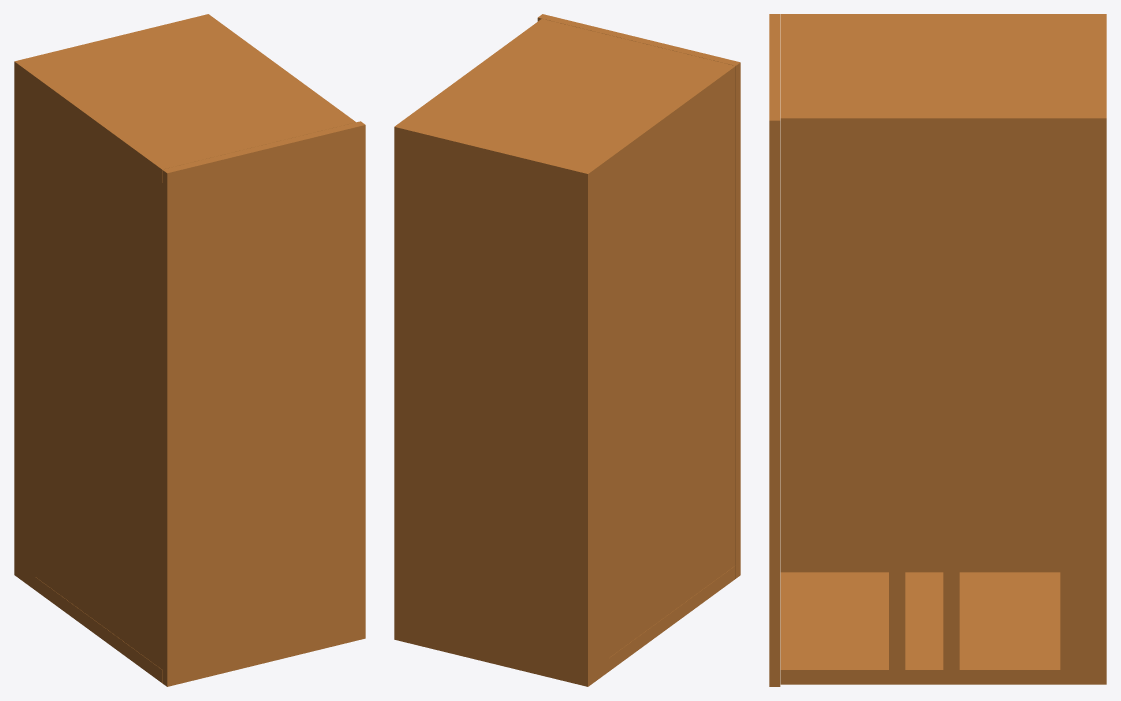
The picture shows the model from 3 angles, left to right: view 1: azimuth 30°, elevation 25°; view 2: azimuth 150°, elevation 25°; view 3: azimuth 270°, elevation 25°; orthographic projection. The views are drawn at different scales.
Parts seen in each view (by area): view 1: ROOT_link (×5); view 2: ROOT_link (×5); view 3: ROOT_link (×7).
Boxes of the visible parts, box(x1,y1,x2,y2) form: ROOT_link (×5): box(14, 14, 365, 686); ROOT_link (×5): box(394, 14, 740, 686); ROOT_link (×7): box(769, 14, 1106, 686).
Bounding box in the file's own units: 0.465 × 1.15 × 0.6205.
